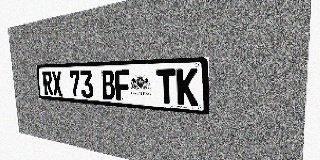3: (80, 70, 93, 98)
7: (69, 71, 82, 97)
B: (101, 70, 116, 100)
F: (115, 70, 131, 101)
K: (176, 68, 198, 106)
R: (42, 71, 53, 95)
T: (157, 69, 176, 104)
X: (51, 71, 63, 96)
